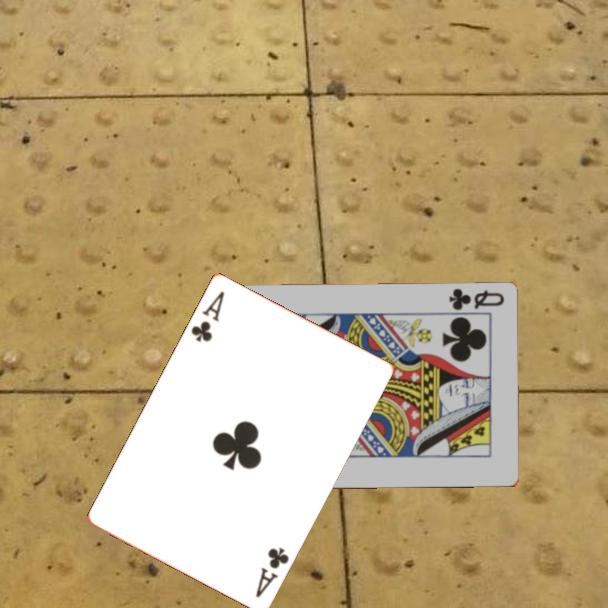c01: (187, 287, 227, 344), (252, 543, 292, 600)
c12: (445, 285, 507, 314)
